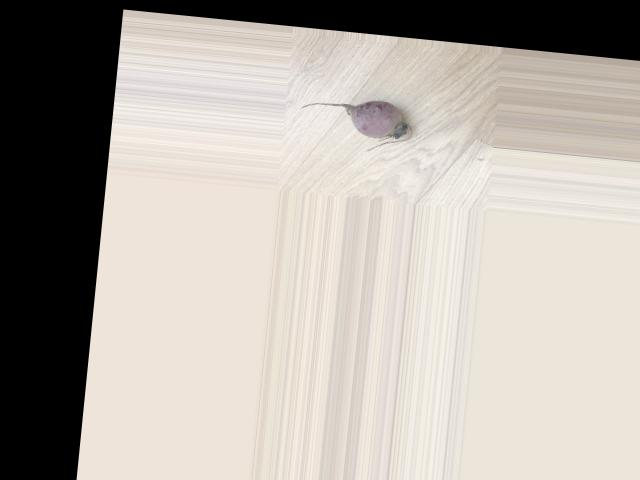beet: (296, 92, 414, 154)
